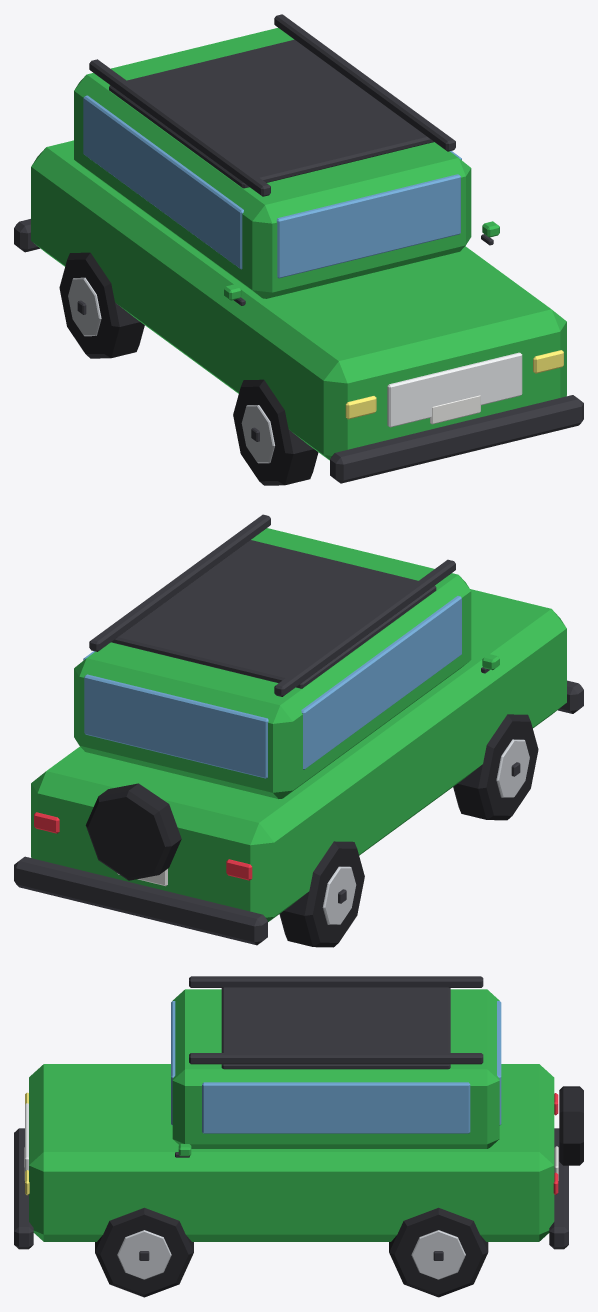
Rendered from GreenSUV.fbx.
3 renders of one model, top to bottom at view 1: azimuth 30°, elevation 25°; view 2: azimuth 150°, elevation 25°; view 3: azimuth 270°, elevation 25°, orthographic. The views are drawn at different scales.
Parts seen in each view (by area): view 1: GreenSUV, GreenSUV_WheelBR, GreenSUV_WheelFR; view 2: GreenSUV, GreenSUV_WheelBR, GreenSUV_WheelFR; view 3: GreenSUV, GreenSUV_WheelBL, GreenSUV_WheelFL.
Part boxes in pixels (box(x1,y1,x2,y2)): GreenSUV: box(14, 14, 583, 483); GreenSUV_WheelBR: box(59, 252, 144, 358); GreenSUV_WheelFR: box(233, 379, 318, 485); GreenSUV: box(14, 514, 583, 945); GreenSUV_WheelBR: box(279, 841, 364, 947); GreenSUV_WheelFR: box(453, 714, 538, 820); GreenSUV: box(14, 976, 583, 1249); GreenSUV_WheelBL: box(389, 1207, 488, 1297); GreenSUV_WheelFL: box(95, 1207, 193, 1297).
Size of the model in its own units: 5.35 by 5.15 by 11.5.
Materials: 1 (1 with a texture image).
